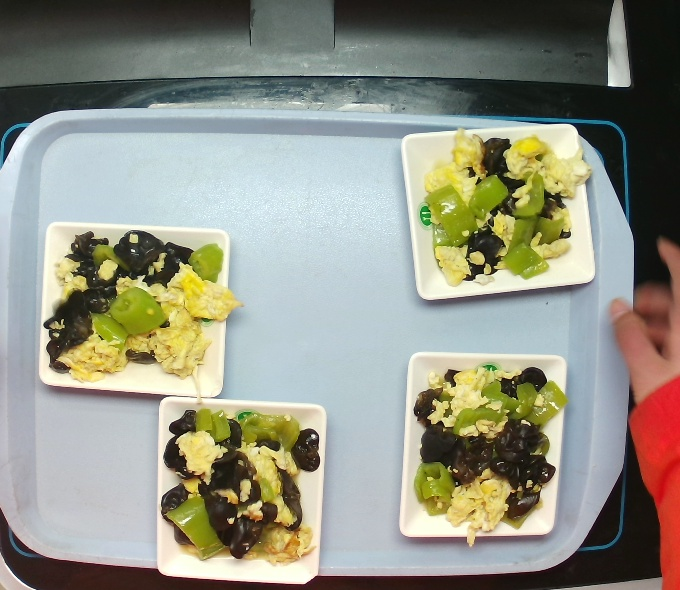wcq-MuErDanHuang: (152, 392, 333, 579), (40, 225, 235, 396), (408, 367, 564, 531), (424, 126, 580, 290)
